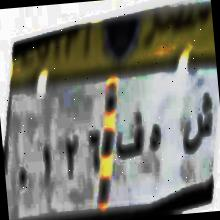0: (14, 154, 35, 194)
1: (38, 134, 58, 195)
2: (58, 128, 84, 192)
6: (82, 118, 107, 187)
faa: (112, 105, 148, 168)
haa: (142, 120, 168, 158)
sheen: (180, 84, 217, 162)
